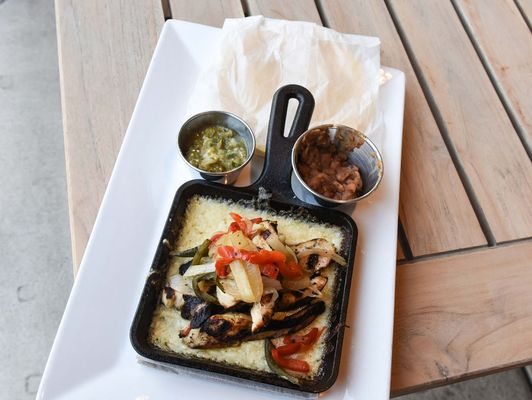salad: (251, 84, 316, 198)
sushi: (289, 124, 384, 208), (176, 110, 255, 185)
